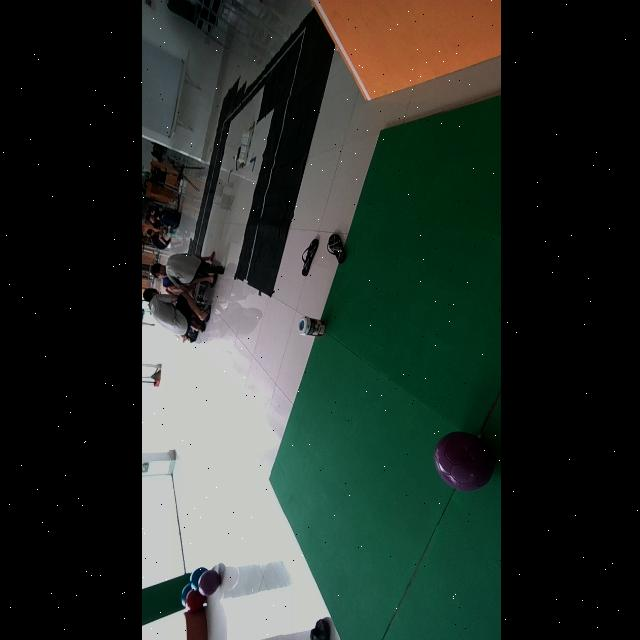P: (433, 433, 492, 492), (196, 570, 218, 596)
